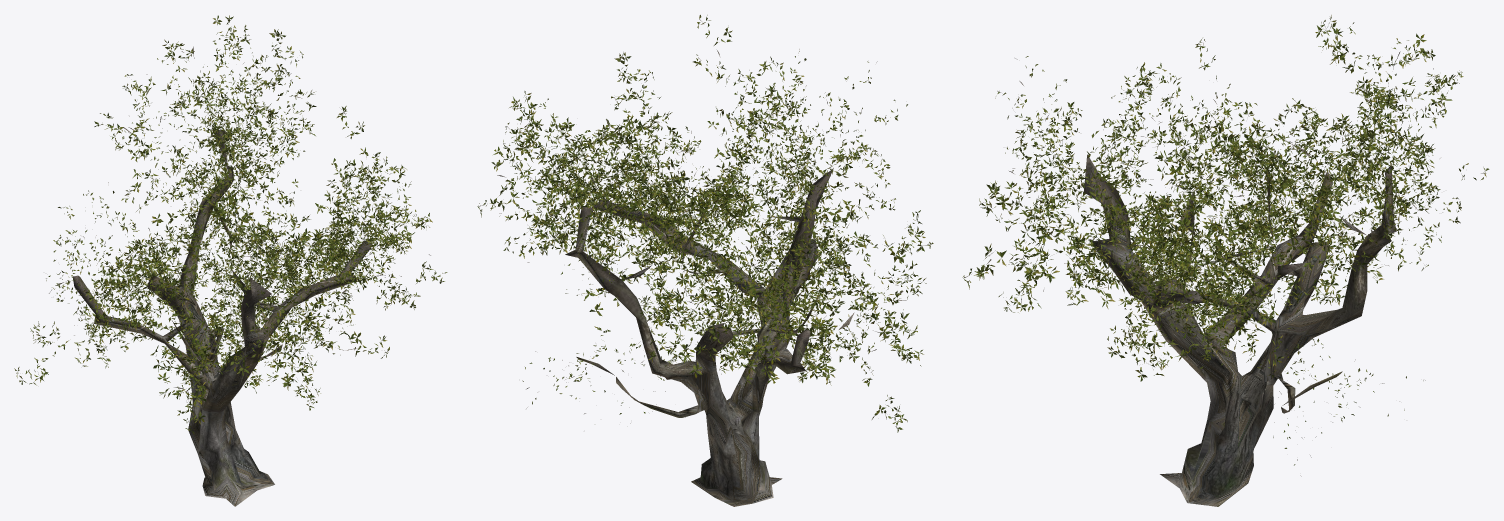
The model's file is island_tree_01.glb.
The picture shows the model from 3 angles, left to right: view 1: azimuth 30°, elevation 25°; view 2: azimuth 150°, elevation 25°; view 3: azimuth 270°, elevation 25°; orthographic projection. The views are drawn at different scales.
Visible parts, largest first — view 1: island_tree_01_LOD0; view 2: island_tree_01_LOD0; view 3: island_tree_01_LOD0.
Part boxes in pixels (x1,y1,x2,y2): island_tree_01_LOD0: (14, 15, 447, 506); island_tree_01_LOD0: (477, 15, 933, 506); island_tree_01_LOD0: (962, 15, 1489, 506).
Bounding box in the file's own units: 4.74 × 5.02 × 4.79.
Materials: 3 (3 with a texture image).
